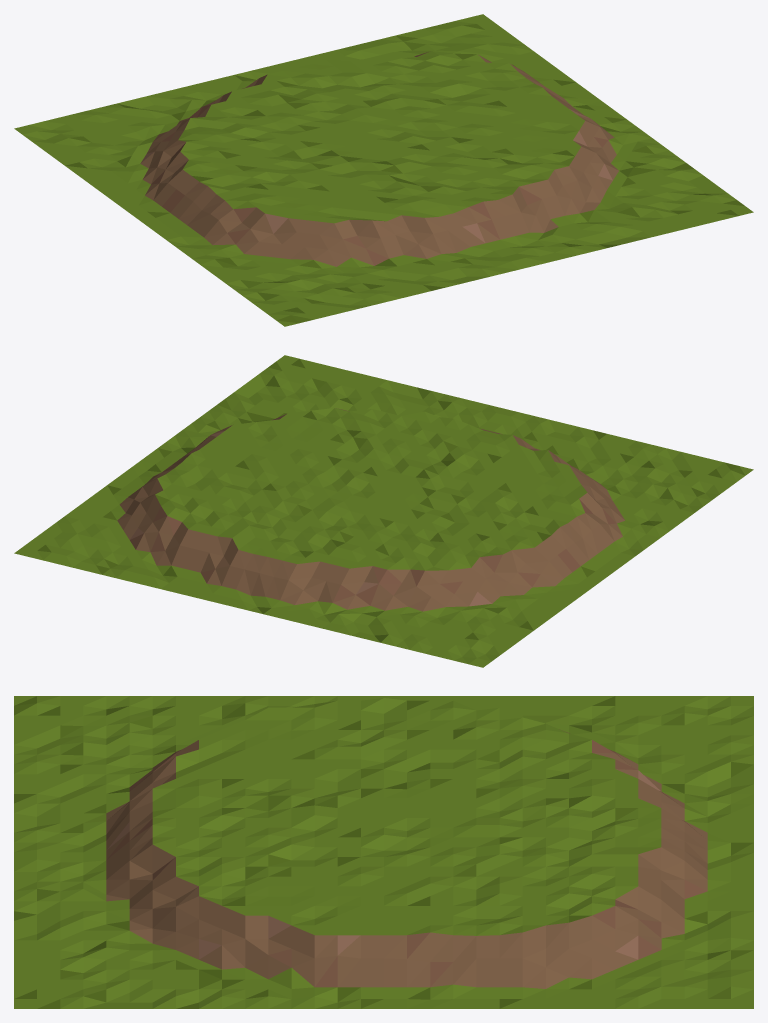
Rendered from mesh_terrain_small_02.fbx.
The picture shows the model from 3 angles, top to bottom: view 1: azimuth 30°, elevation 25°; view 2: azimuth 150°, elevation 25°; view 3: azimuth 270°, elevation 25°; orthographic projection. The views are drawn at different scales.
Visible parts, largest first — view 1: mesh_terrain_small_02; view 2: mesh_terrain_small_02; view 3: mesh_terrain_small_02.
Part boxes in pixels (x1=…): mesh_terrain_small_02: x1=14, y1=14, x2=753, y2=326; mesh_terrain_small_02: x1=14, y1=355, x2=753, y2=667; mesh_terrain_small_02: x1=14, y1=696, x2=753, y2=1008.
Size of the model in its own units: 20 by 1.21 by 20.
